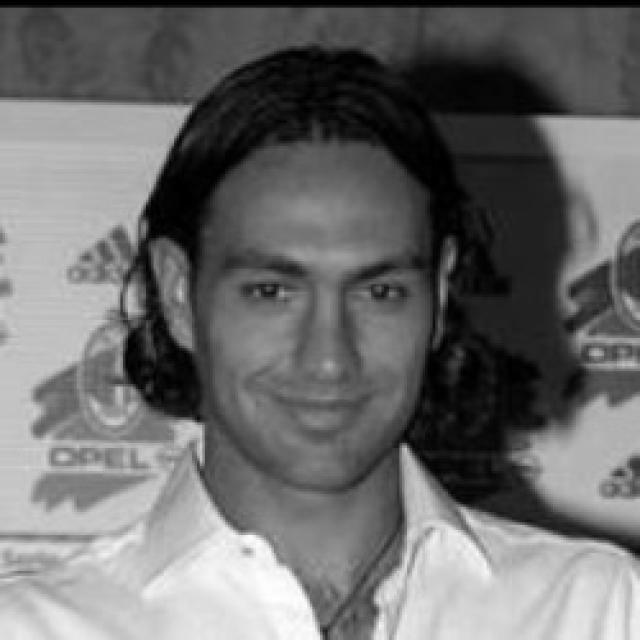real: (158, 76, 468, 492), (225, 243, 427, 321)
